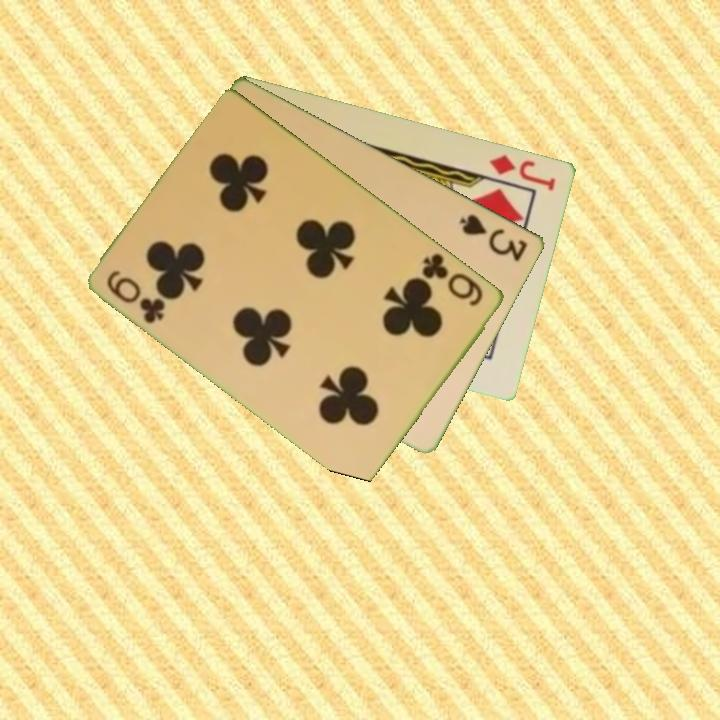3s: (456, 210, 531, 264)
6c: (419, 249, 487, 310), (103, 266, 169, 327)
Jd: (486, 150, 559, 193)
